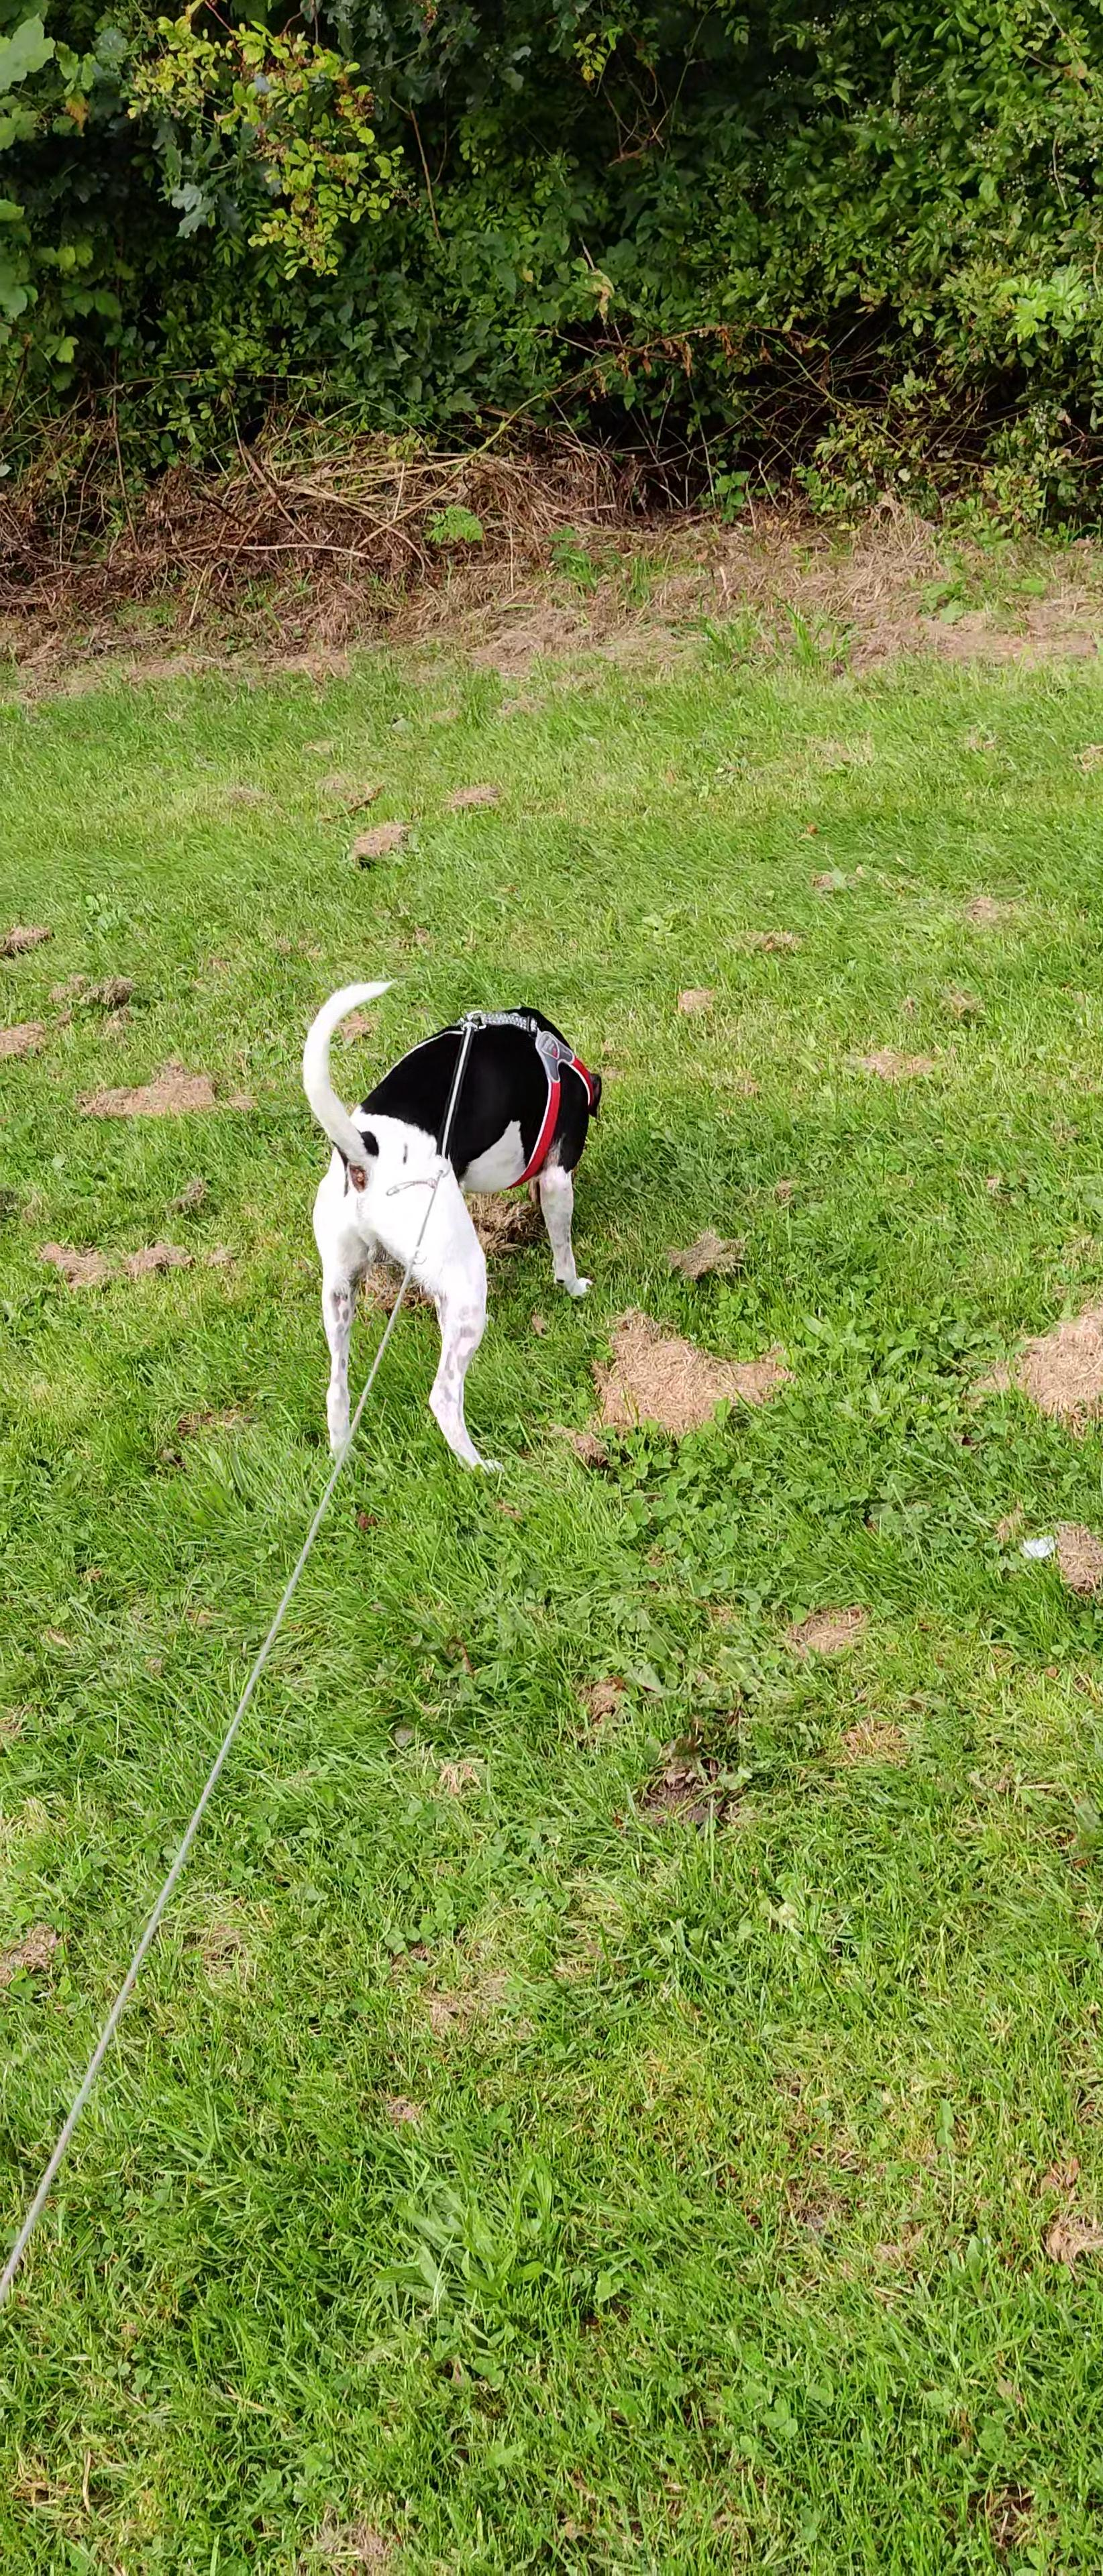Dog: (242, 966, 639, 1493)
